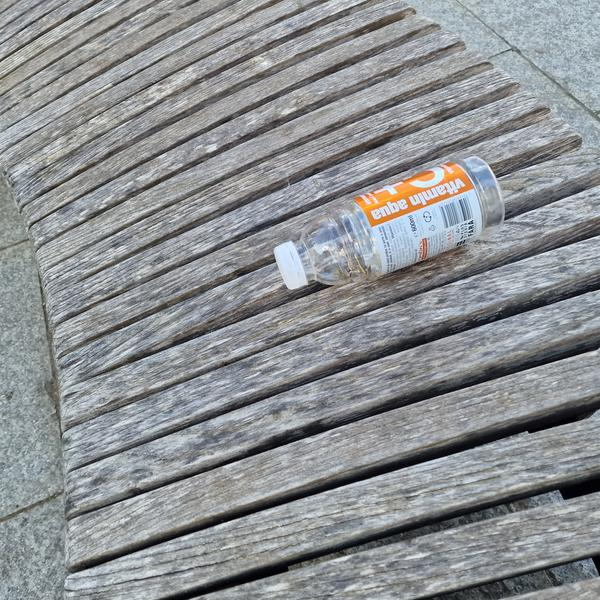plastic_bottle: (260, 142, 517, 308)
